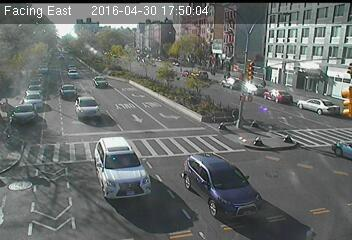neg: (53, 14, 91, 64), (319, 157, 351, 210), (110, 157, 145, 203), (172, 124, 204, 167), (293, 98, 325, 140), (1, 109, 31, 150), (327, 58, 351, 99), (107, 92, 133, 127), (189, 65, 215, 99), (79, 161, 105, 195), (9, 1, 34, 34), (128, 4, 152, 36), (42, 88, 65, 118), (48, 151, 71, 181), (256, 158, 278, 188), (249, 19, 271, 48), (221, 14, 239, 39), (96, 44, 114, 68), (241, 109, 258, 132), (167, 68, 184, 90), (252, 76, 268, 97), (184, 4, 200, 25)
